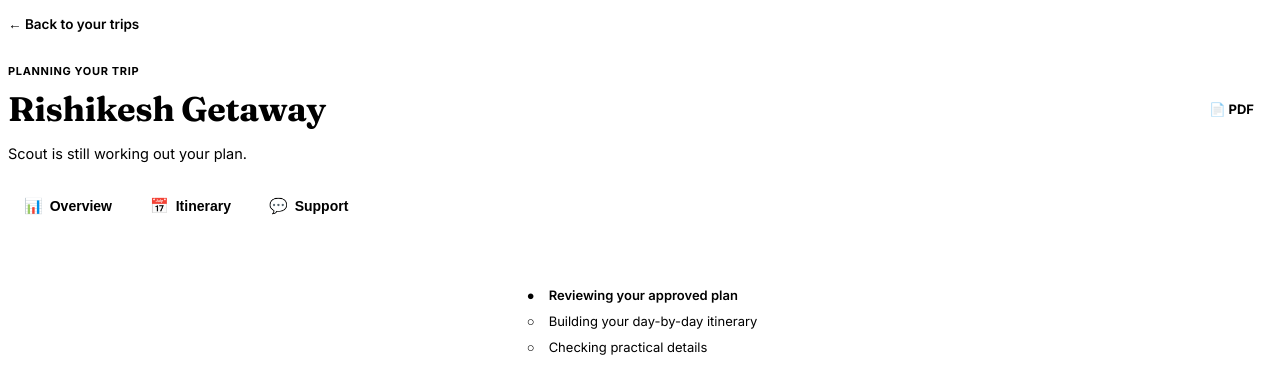
Test case: Trip Dashboard (TripView + enriched itinerary) › keeps the dashboard shell mounted (hero, tab bar) through the build transition, auto-landing on Itinerary
This screenshot has width=1271, height=372.
Expected: the message named "Building your itinerary" is shown, x1=527 y1=287 x2=757 y2=355
Expected: the link "← Back to your trips" is shown, x1=8 y1=16 x2=139 y2=32
Switching away and manually back is still possible — the auto-switch doesn't re-fire.
Click the button "📊 Overview".
click(68, 206)  # box x1=8 y1=185 x2=128 y2=227
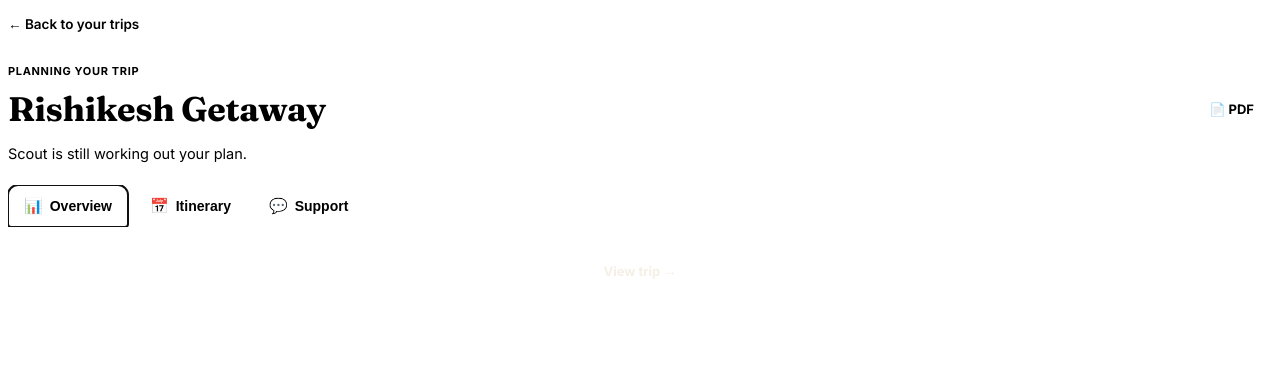
Expected: the button "View trip →" is shown, x1=586 y1=251 x2=694 y2=291
